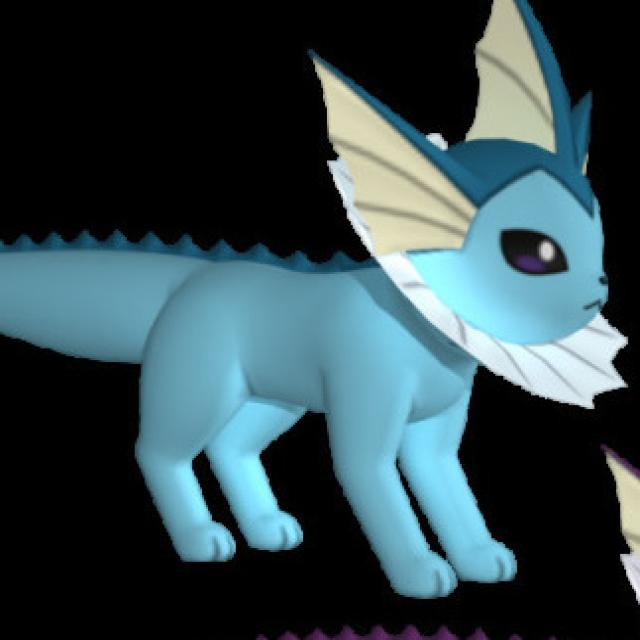Vaporeon: (127, 36, 621, 598)
